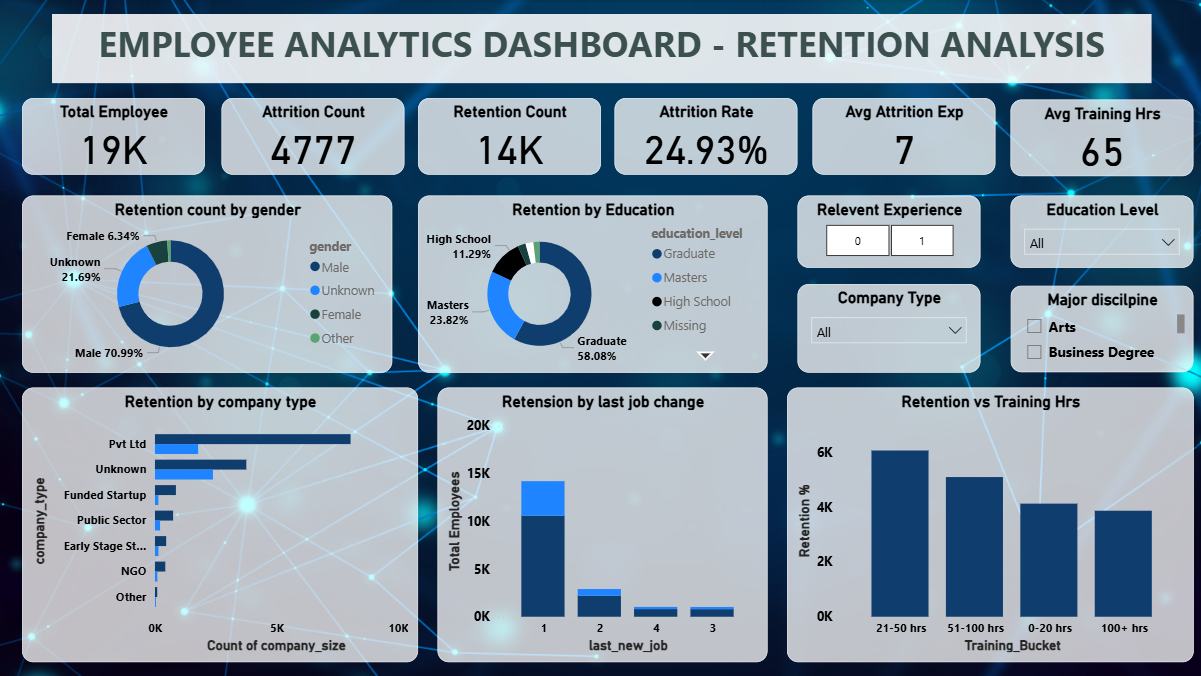

The page's visual inventory and layout, read from the dashboard file:
{"tool":"powerbi","page":{"name":"Page 1","canvas":[1280,720],"ordinal":0},"visuals":[{"type":"textbox","box":[57.3,15.9,1165.9,73.2],"z":0},{"type":"card","title":"Total Employee","fields":{"Values":["Employee_data.Total Employees"]},"box":[25.4,105,194.1,81.1],"z":1000},{"type":"card","title":"Attrition Count","fields":{"Values":["Employee_data.Attrition Count"]},"box":[237,105,194.1,81.1],"z":2000},{"type":"card","title":"Retention Count","fields":{"Values":["Employee_data.Retention count"]},"box":[445.4,105,194.1,81.1],"z":3000},{"type":"card","title":"Attrition Rate","fields":{"Values":["Employee_data.Attrition Rate"]},"box":[653.7,105,194.1,81.1],"z":4000},{"type":"card","title":"Avg Attrition Exp","fields":{"Values":["Employee_data.Avg Attrition exp"]},"box":[863.7,105,194.1,81.1],"z":5000},{"type":"card","title":"Avg Training Hrs","fields":{"Values":["Employee_data.Avg Training hrs"]},"box":[1073.7,106.6,194.1,81.1],"z":6000},{"type":"donutChart","fields":{"Category":["Employee_data.gender"],"Y":["Employee_data.Retention count"]},"box":[25.4,208.4,392.9,187.7],"z":7000},{"type":"donutChart","title":"Retention by Education","fields":{"Category":["Employee_data.education_level"],"Y":["Employee_data.Retention count"]},"box":[445.4,208.4,370.6,187.7],"z":8000},{"type":"clusteredBarChart","title":"Retention by company type","fields":{"Category":["Employee_data.company_type"],"Y":["CountNonNull(Employee_data.company_size)"],"Series":["Employee_data.Attrition_status"]},"box":[25.4,412,419.9,291.1],"z":9000},{"type":"columnChart","title":"Retension by last job change","fields":{"Category":["Employee_data.last_new_job"],"Y":["Employee_data.Total Employees"],"Series":["Employee_data.Attrition_status"]},"box":[466,412,349.9,291.1],"z":10000},{"type":"columnChart","title":"Retention vs Training Hrs","fields":{"Category":["Employee_data.Training_Bucket"],"Y":["Employee_data.Retention %"]},"box":[836.7,412,431.1,291.1],"z":11000},{"type":"slicer","title":"Relevent Experience","fields":{"Values":["Employee_data.relevent_experience"]},"box":[847.8,208.4,194.1,76.3],"z":12000},{"type":"slicer","title":"Education Level","fields":{"Values":["Employee_data.education_level"]},"box":[1073.7,208.4,194.1,76.3],"z":13000},{"type":"slicer","title":"Company Type","fields":{"Values":["Employee_data.company_type"]},"box":[847.8,302.2,194.1,93.8],"z":14000},{"type":"slicer","title":"Major discilpine","fields":{"Values":["Employee_data.major_discipline"]},"box":[1073.7,303.8,194.1,92.3],"z":15000}]}

Visuals, with their boxes in screenshot pixels (x1, y1, x2, y2), scaled from the page's 1280x720 canvas onto the 1201x676 screenshot:
textbox: (54,15,1148,84)
"Total Employee" card: (24,99,206,175)
"Attrition Count" card: (222,99,404,175)
"Retention Count" card: (418,99,600,175)
"Attrition Rate" card: (613,99,795,175)
"Avg Attrition Exp" card: (810,99,993,175)
"Avg Training Hrs" card: (1007,100,1190,176)
donutChart - Employee_data.gender x Employee_data.Retention count: (24,196,392,372)
"Retention by Education" donutChart: (418,196,766,372)
"Retention by company type" clusteredBarChart: (24,387,418,660)
"Retension by last job change" columnChart: (437,387,766,660)
"Retention vs Training Hrs" columnChart: (785,387,1190,660)
"Relevent Experience" slicer: (795,196,978,267)
"Education Level" slicer: (1007,196,1190,267)
"Company Type" slicer: (795,284,978,372)
"Major discilpine" slicer: (1007,285,1190,372)
